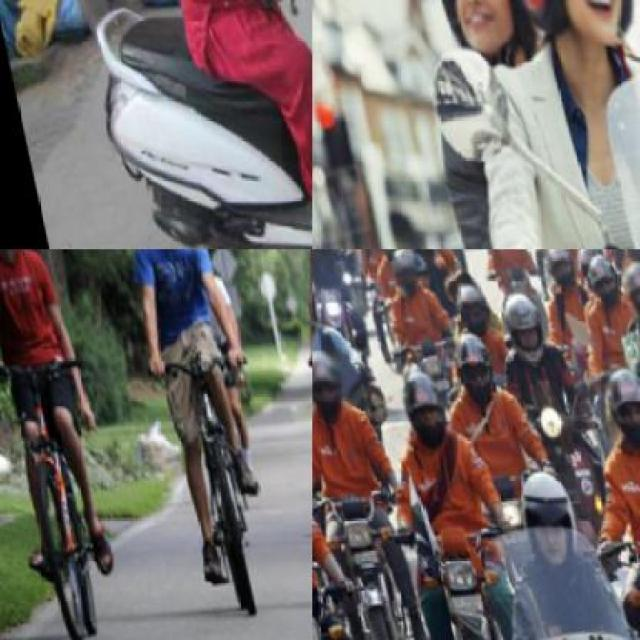With Helmet: (500, 462, 582, 576), (479, 0, 638, 55), (421, 0, 529, 55), (488, 282, 554, 371), (386, 362, 452, 448), (584, 349, 638, 454), (444, 324, 499, 408), (312, 346, 351, 425), (580, 249, 622, 306), (450, 277, 490, 335), (538, 250, 580, 292), (614, 252, 638, 320), (388, 250, 422, 296), (312, 260, 325, 338), (402, 249, 442, 274), (372, 249, 406, 262), (620, 249, 638, 265)
